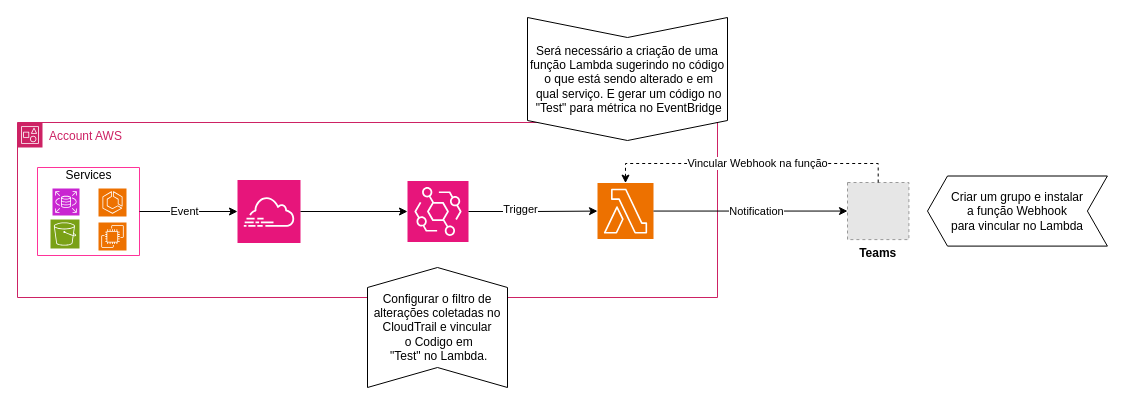
Some shapes in this 1125 by 405 pixel diagram are drawn without their labels. Grey dashed boxes stand in for pictures. Each missing label, with the box of its shape:
Cloudtrail: (236, 179, 300, 243)
EventBridge: (406, 180, 468, 242)
Lambda: (596, 182, 654, 239)
